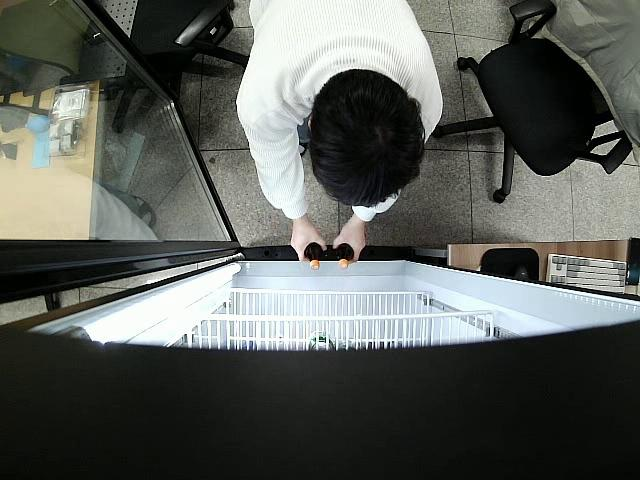00_hand: (333, 218, 367, 267), (290, 222, 327, 263)
17_vita500: (305, 242, 324, 270), (335, 245, 354, 269)
